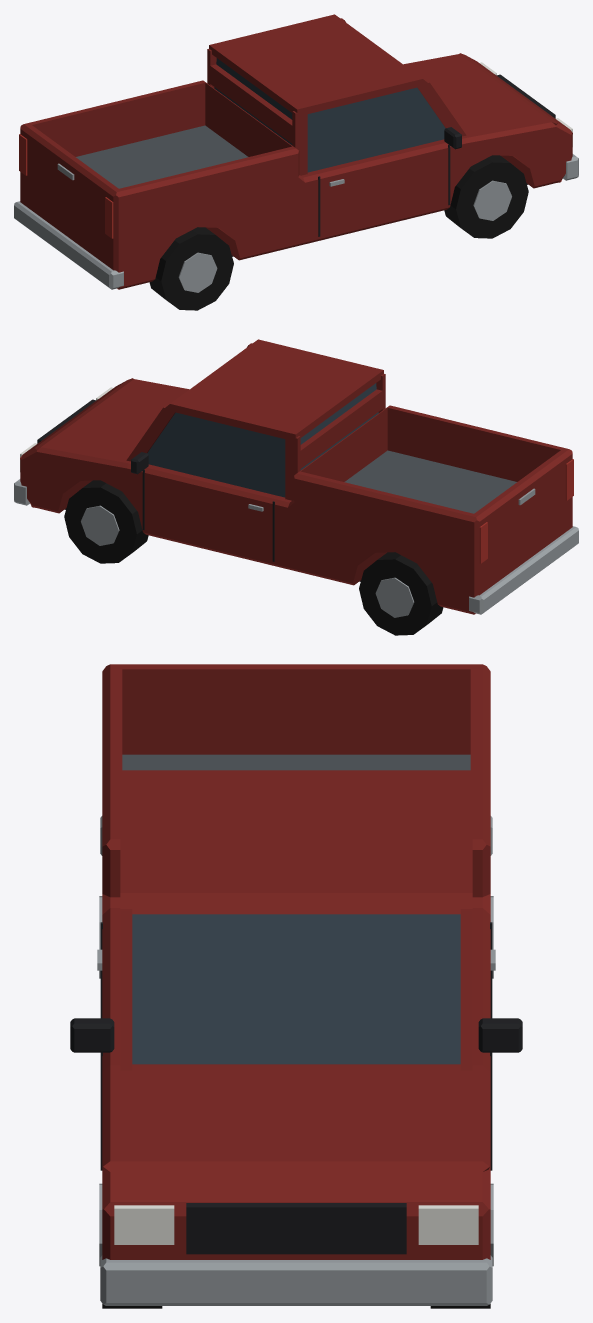
File: pickup.glb
3 renders of one model, top to bottom at view 1: azimuth 30°, elevation 25°; view 2: azimuth 150°, elevation 25°; view 3: azimuth 270°, elevation 25°, orthographic. The views are drawn at different scales.
Parts seen in each view (by area): view 1: body, roof, glass, wheels_l, bed_floor, hubs_l, bumper_r, back, pillar_b, pillar_a; view 2: body, roof, glass, wheels_r, bed_floor, hubs_r, bumper_r, back, pillar_b2, pillar_a2; view 3: body, roof, glass, bumper_f, grille, bed_floor, head_l, head_r, pillar_a, pillar_a2, mirror_l, mirror_r.
Boxes of the visible parts, <box> form: body: <box>20,53,572,289</box>; roof: <box>209,14,428,116</box>; glass: <box>214,58,445,172</box>; wheels_l: <box>149,155,528,310</box>; bed_floor: <box>76,125,248,188</box>; hubs_l: <box>178,180,511,292</box>; bumper_r: <box>14,201,123,289</box>; back: <box>207,64,301,145</box>; pillar_b: <box>292,110,307,175</box>; pillar_a: <box>417,80,466,136</box>; body: <box>20,378,572,614</box>; roof: <box>164,339,383,441</box>; glass: <box>147,383,378,497</box>; wheels_r: <box>64,480,443,635</box>; bed_floor: <box>344,450,516,513</box>; hubs_r: <box>81,505,414,617</box>; bumper_r: <box>469,526,578,614</box>; back: <box>292,389,385,470</box>; pillar_b2: <box>285,436,300,500</box>; pillar_a2: <box>126,405,175,461</box>; body: <box>102,664,490,1259</box>; roof: <box>120,770,472,914</box>; glass: <box>132,914,460,1064</box>; bumper_f: <box>100,1255,492,1305</box>; grille: <box>186,1203,406,1254</box>; bed_floor: <box>122,754,470,770</box>; head_l: <box>114,1205,174,1244</box>; head_r: <box>418,1205,478,1244</box>; pillar_a: <box>120,909,132,1070</box>; pillar_a2: <box>460,909,472,1070</box>; mirror_l: <box>70,1018,114,1052</box>; mirror_r: <box>478,1018,522,1052</box>.
Bounding box in the file's own units: 5.42 × 1.9 × 2.26.
9 materials, 9 textured.
